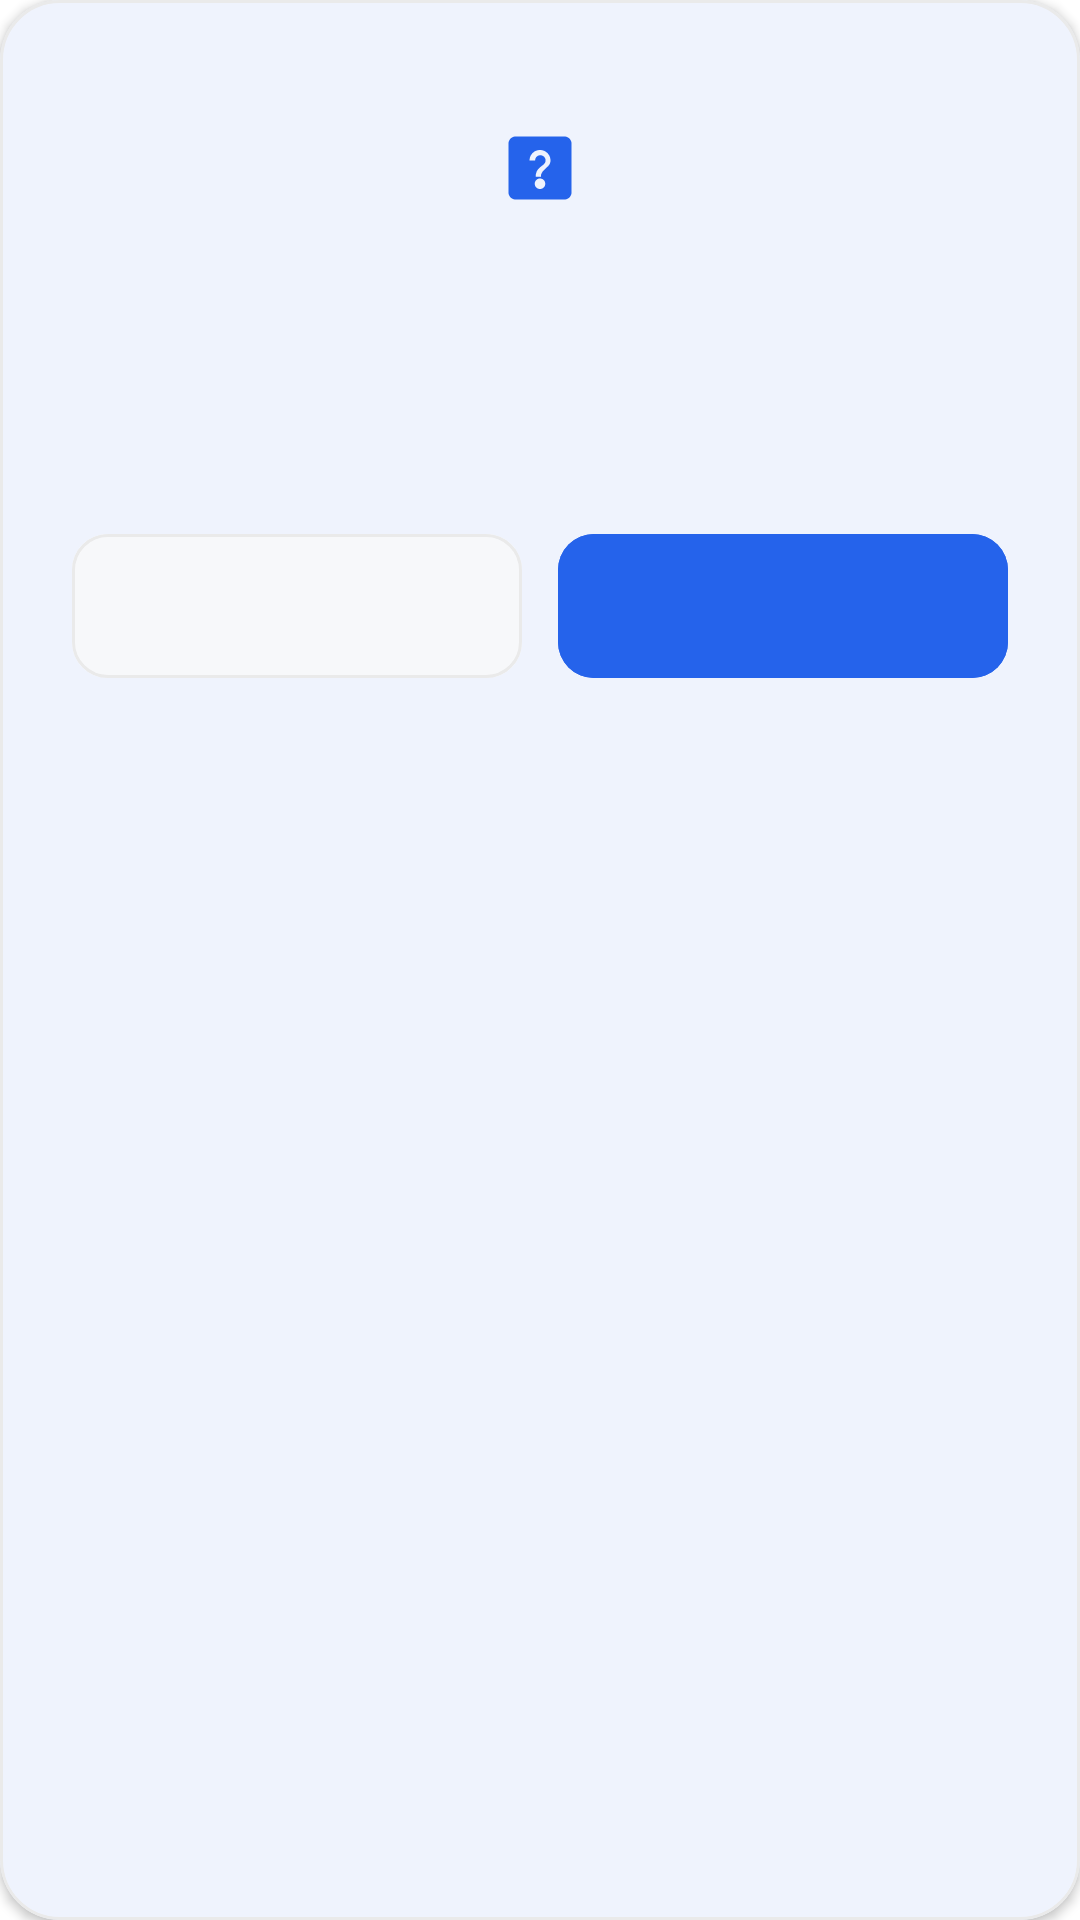

Named icons in this screenshot (1080px x 1920px) and their bounding boxes, (x1, y1, x2, y2):
Dialog Icon: (508, 136, 572, 200)
